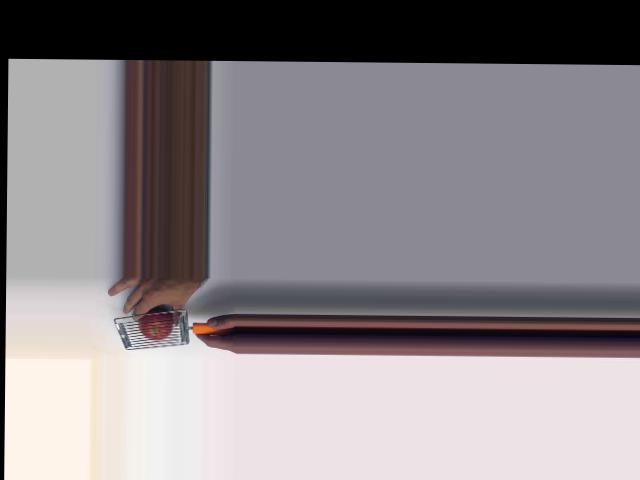tomato: (139, 307, 174, 340)
